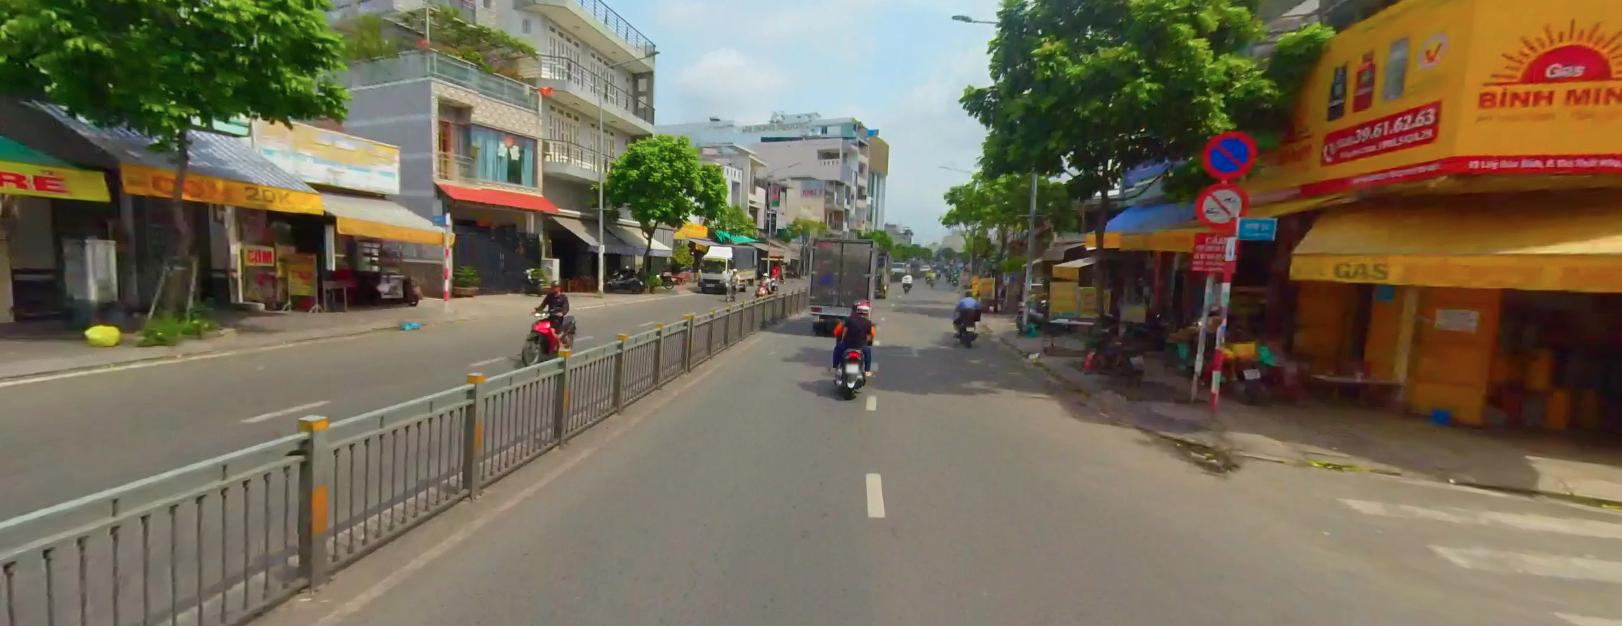Cam con lai: (1197, 182, 1246, 227)
Cam dung va do: (1203, 130, 1255, 177)
